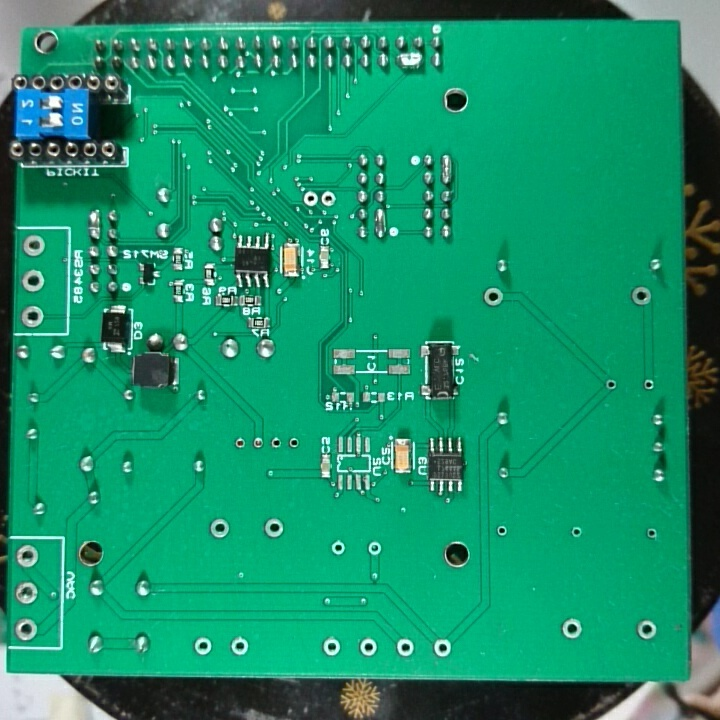F: (12, 540, 39, 573), (12, 578, 39, 608), (19, 267, 46, 296), (12, 615, 39, 643), (20, 232, 47, 260), (19, 303, 46, 330), (558, 615, 585, 641), (629, 283, 657, 308), (262, 515, 287, 542), (634, 617, 659, 642), (206, 515, 231, 540), (191, 633, 214, 659), (430, 636, 455, 659), (319, 635, 344, 658), (394, 636, 417, 660), (228, 634, 251, 658), (482, 286, 505, 309), (356, 636, 379, 659), (283, 432, 303, 457), (319, 188, 338, 211), (248, 432, 267, 455), (328, 539, 348, 559), (642, 523, 659, 545), (365, 539, 384, 558), (301, 189, 319, 209), (267, 432, 283, 454), (230, 434, 248, 453), (568, 522, 584, 543), (493, 521, 510, 540), (640, 375, 657, 392), (603, 375, 619, 392)
P: (86, 206, 103, 243), (439, 151, 455, 186), (395, 52, 425, 70), (373, 206, 388, 240)
